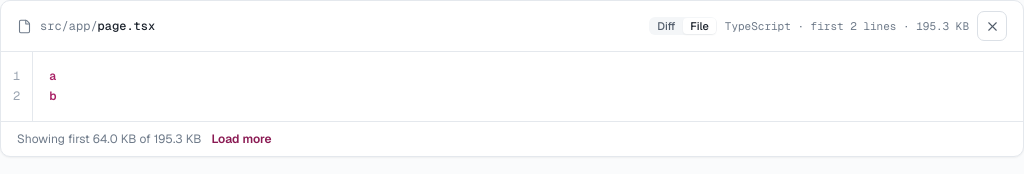
it: SessionViewer sliced reads › keeps the daemon offset and repository scope on later slices: acme/secondary
Click the button "Load more" at (242, 139), box [211,131,272,147]
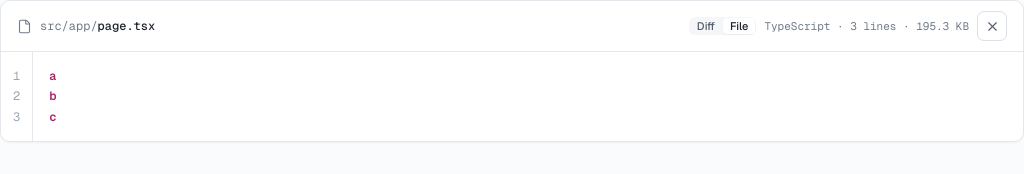
Check: the text "Showing first" is gone
